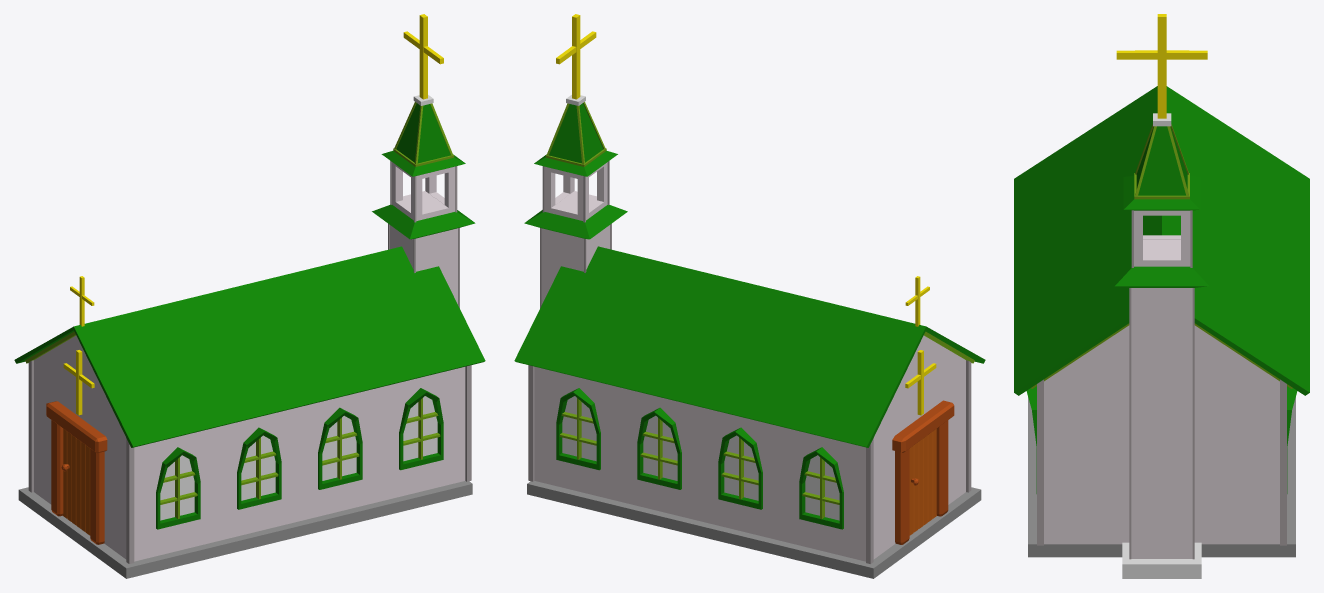
Rendered from Church.fbx.
The picture shows the model from 3 angles, left to right: view 1: azimuth 30°, elevation 25°; view 2: azimuth 150°, elevation 25°; view 3: azimuth 270°, elevation 25°; orthographic projection. The views are drawn at different scales.
Parts seen in each view (by area): view 1: Cube.009, Cube, Cube.015, Cube.017, Cube.023, Cube.004, Cube.013, Cube.019, Cube.003, Cube.020, Cube.018, Cube.001 (+4 smaller); view 2: Cube.009, Cube, Cube.015, Cube.017, Cube.023, Cube.004, Cube.019, Cube.013, Cube.003, Cube.020, Cube.018, Cube.001 (+4 smaller); view 3: Cube.009, Cube, Cube.001, Cube.015, Cube.004, Cube.002, Cube.003, Cube.013, Cube.016, Cube.006, Cube.014, Cube.010 (+3 smaller).
Boxes of the visible parts, x1,y1,x2,y2 form: Cube.009: (14,246,485,447); Cube: (34,335,465,561); Cube.015: (18,481,472,578); Cube.017: (156,388,443,529); Cube.023: (160,396,437,520); Cube.004: (381,103,465,176); Cube.013: (28,360,471,563); Cube.019: (51,420,104,544); Cube.003: (392,162,455,220); Cube.020: (160,398,440,518); Cube.018: (63,429,90,535); Cube.001: (389,225,457,304); Cube.009: (514,246,985,447); Cube: (534,335,965,561); Cube.015: (527,481,981,578); Cube.017: (556,388,843,529); Cube.023: (562,396,839,520); Cube.004: (534,103,617,176); Cube.019: (895,420,948,544); Cube.013: (528,360,971,563); Cube.003: (544,162,607,220); Cube.020: (559,398,839,518); Cube.018: (909,429,936,535); Cube.001: (542,225,610,303); Cube.009: (1014,86,1309,395); Cube: (1044,325,1279,544); Cube.001: (1131,288,1192,558); Cube.015: (1028,397,1295,557); Cube.004: (1123,126,1200,210); Cube.002: (1114,242,1209,287); Cube.003: (1134,210,1190,266); Cube.013: (1037,379,1286,545); Cube.016: (1122,542,1201,578); Cube.006: (1116,14,1207,118); Cube.014: (1129,288,1194,559); Cube.010: (1135,124,1188,196).
Size of the model in its own units: 1899 by 2056 by 1012.
